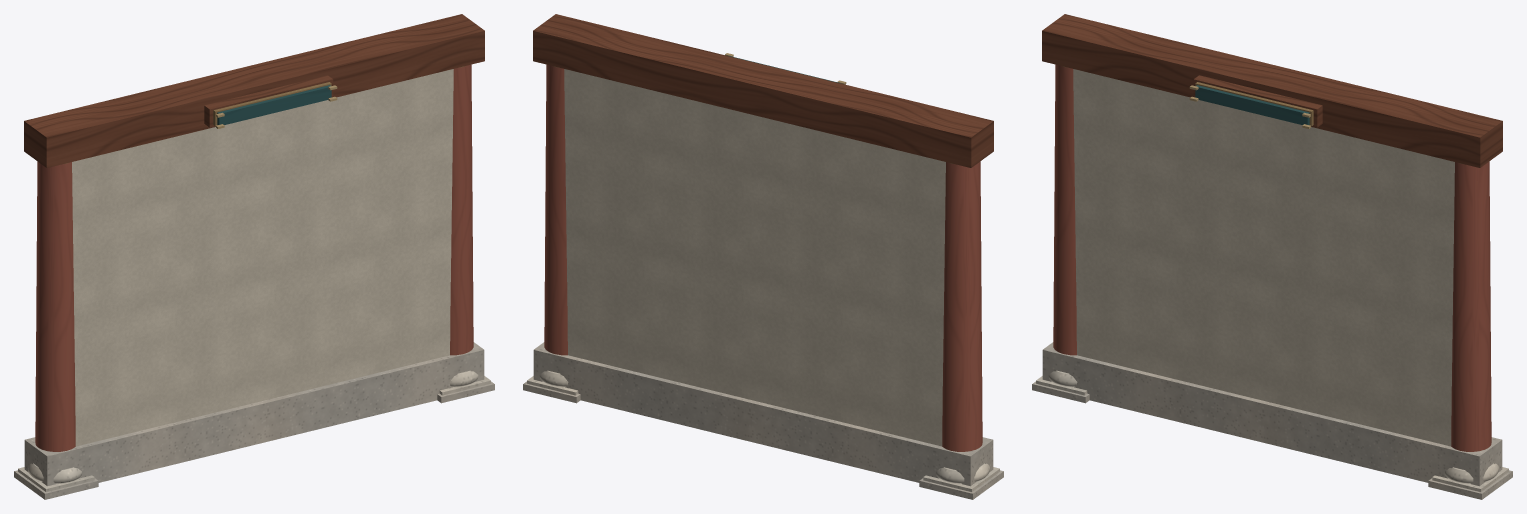
The picture shows the model from 3 angles, left to right: view 1: azimuth 30°, elevation 25°; view 2: azimuth 150°, elevation 25°; view 3: azimuth 330°, elevation 25°; orthographic projection.
Parts seen in each view (by area): view 1: Limewall_lime, Framing_heartwood, Limewall_stone, Framing_lacquer, Framing_teal, Framing_stonePale, Framing_stone; view 2: Limewall_lime, Framing_heartwood, Limewall_stone, Framing_lacquer, Framing_stonePale, Framing_stone; view 3: Limewall_lime, Framing_heartwood, Limewall_stone, Framing_lacquer, Framing_teal, Framing_stonePale, Framing_stone.
Boxes of the visible parts, x1,y1,x2,y2 form: Limewall_lime: (72,69,453,446); Framing_heartwood: (24,14,484,167); Limewall_stone: (24,342,484,486); Framing_lacquer: (35,64,473,451); Framing_teal: (217,85,331,124); Framing_stonePale: (18,370,490,491); Framing_stone: (14,381,494,499); Limewall_lime: (564,69,945,446); Framing_heartwood: (533,14,993,167); Limewall_stone: (533,342,993,486); Framing_lacquer: (544,64,982,451); Framing_stonePale: (527,370,999,491); Framing_stone: (523,381,1003,499); Limewall_lime: (1073,69,1454,446); Framing_heartwood: (1042,14,1502,167); Limewall_stone: (1042,342,1502,486); Framing_lacquer: (1053,64,1491,451); Framing_teal: (1195,85,1309,124); Framing_stonePale: (1036,370,1508,491); Framing_stone: (1032,381,1512,499).
Size of the model in its own units: 3.86 by 2.93 by 0.5727.
9 materials, 9 textured.
